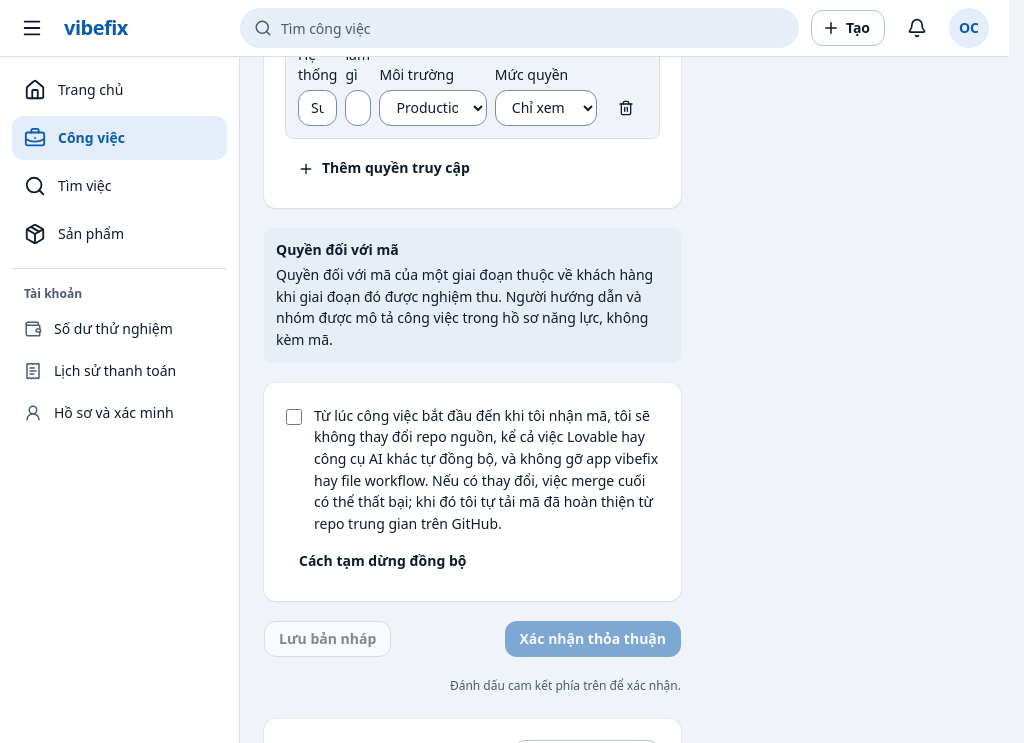
Test case: JOB-6 and JOB-4 for the Customer of a Self-mentored Job (AD-47, Story 25.2a) › confirms alone in one step, with no share and no review
(page scrolled)
Expected: the button "Xác nhận thỏa thuận" is disabled, [504,621,681,657]
Click the checkbox labelled "Từ lúc công việc bắt đầu đến khi tôi nhận mã" at (294, 417), box [286,409,302,425]
(page scrolled)
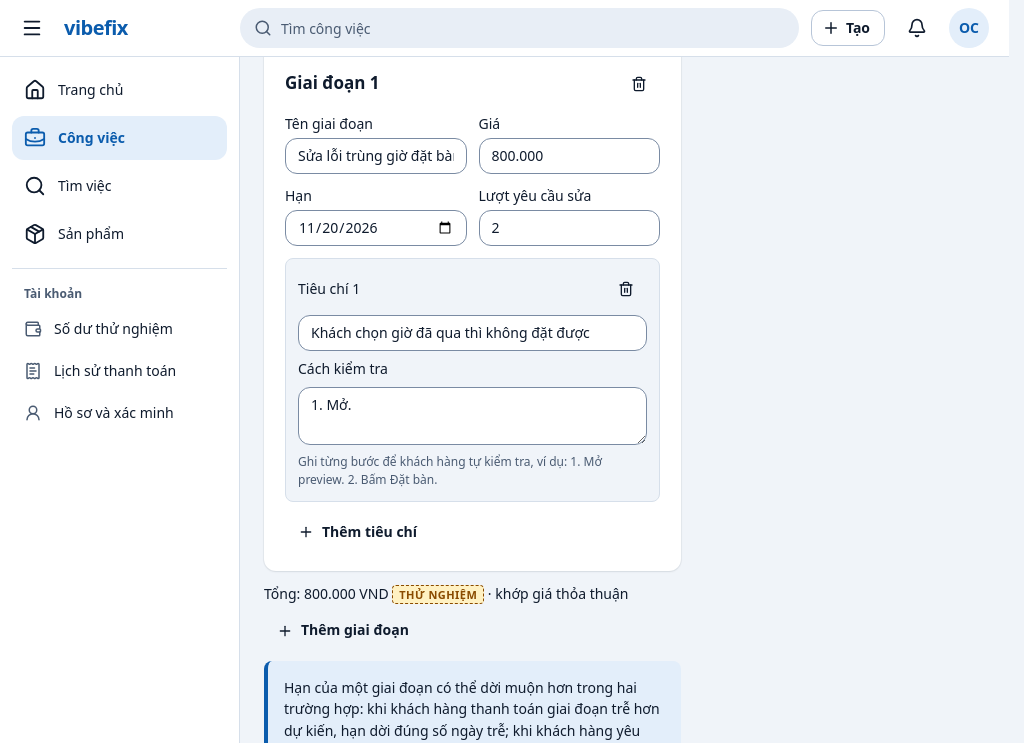
Type " 2. Chọn." into the text box labelled "Cách kiểm tra" at (472, 416), box [298,388,647,445]
(page scrolled)
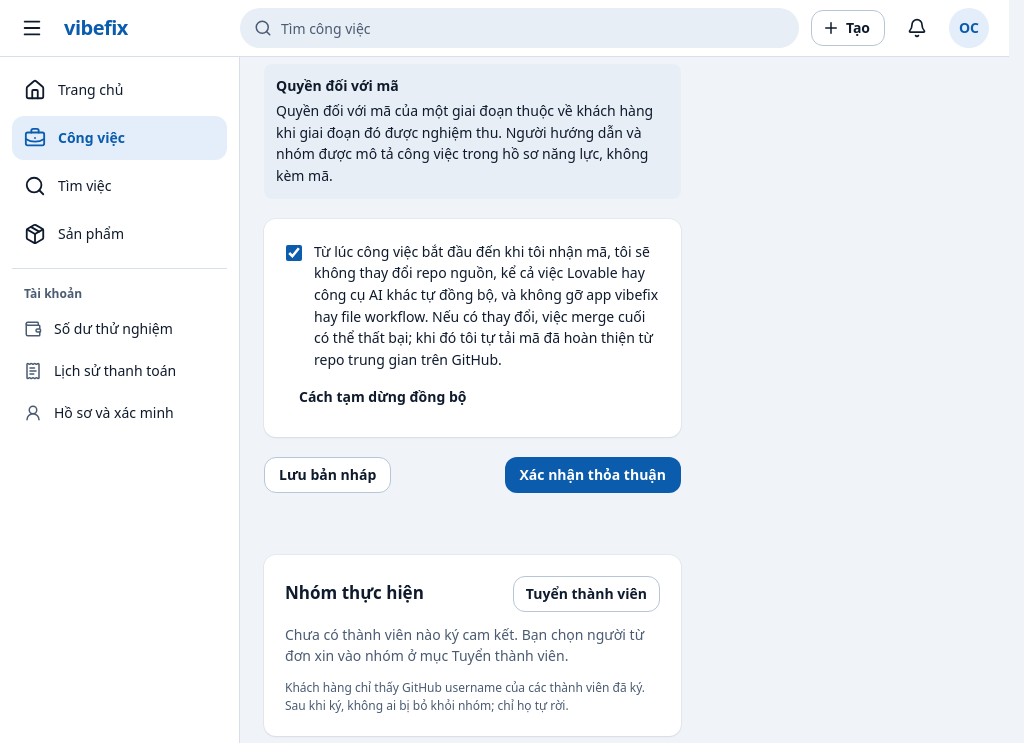
Click the button "Xác nhận thỏa thuận" at (593, 475), box [504,457,681,493]
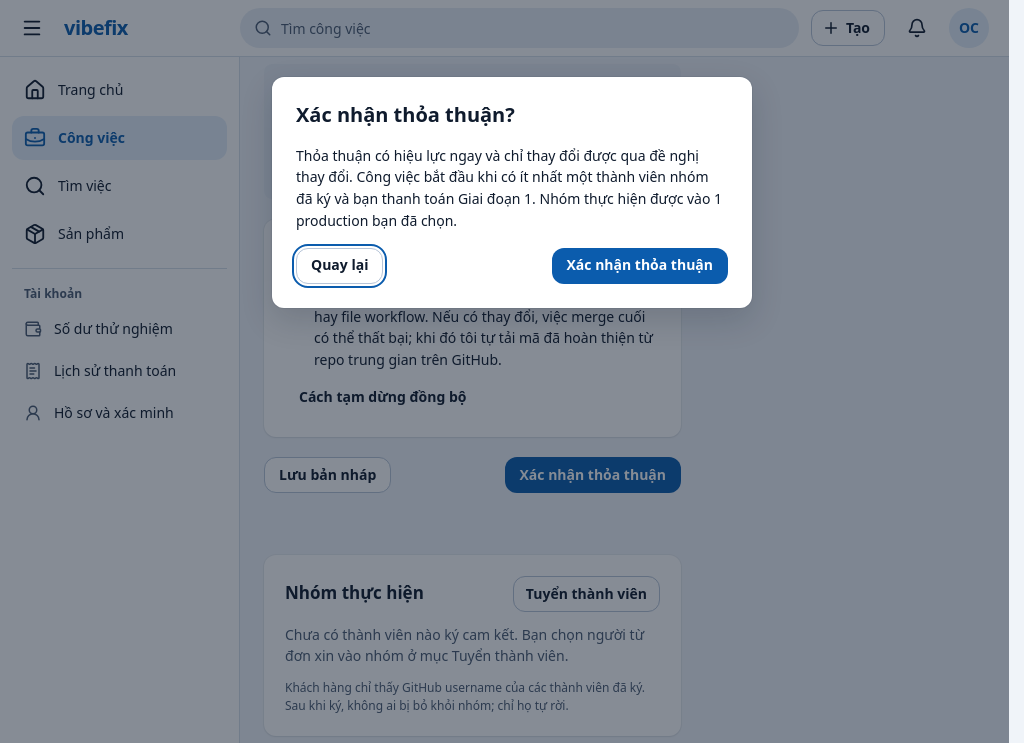
Click the button "Xác nhận thỏa thuận" at (640, 266), box [552,248,728,284]
(page scrolled)
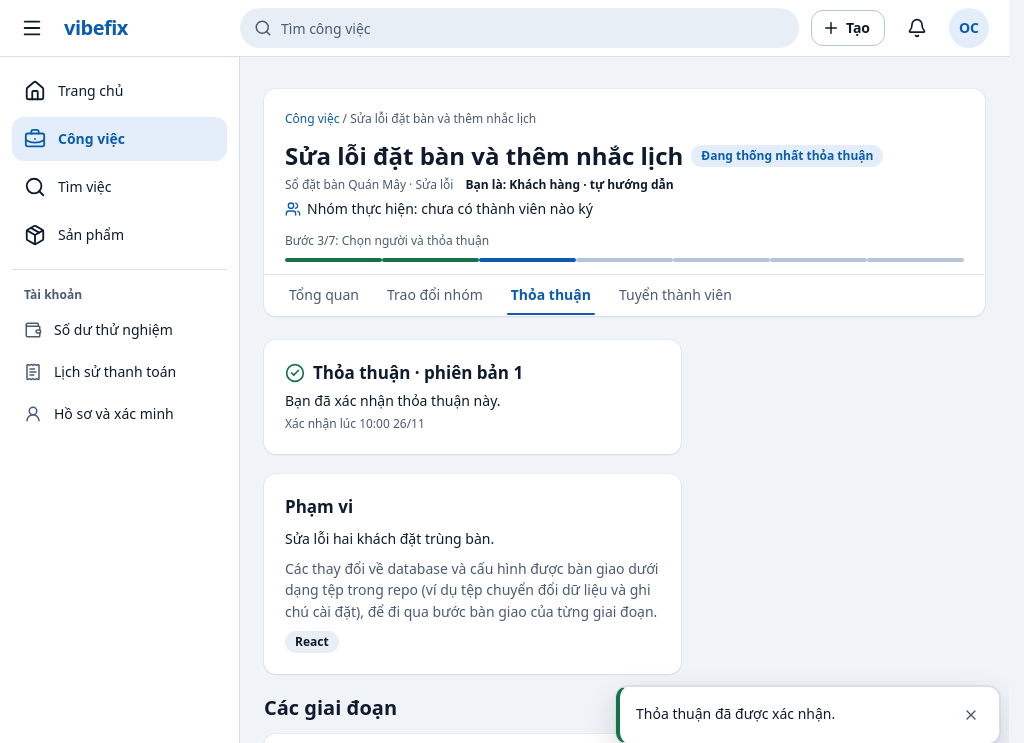
Expected: the text "Bạn đã xác nhận thỏa thuận này." is shown, [285,391,500,410]
Expected: the button "Lưu bản nháp" is gone
